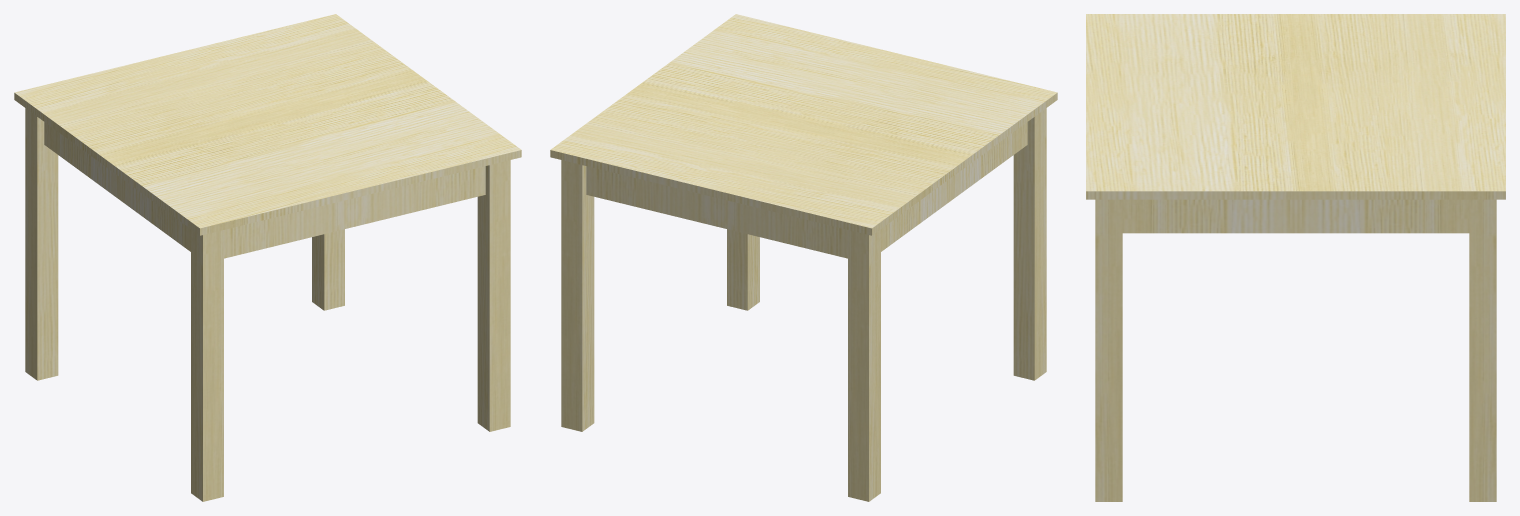
File: ingo_table_4_obj0_object.obj
3 renders of one model, left to right at view 1: azimuth 30°, elevation 25°; view 2: azimuth 150°, elevation 25°; view 3: azimuth 270°, elevation 25°, orthographic. The views are drawn at different scales.
Parts seen in each view (by area): view 1: Mesh2 ingo_table_top_1_1 ingo_side_table1 Model, Mesh3 ingo_table_leg_1_2 ingo_side_table1 Model, Mesh4 ingo_table_leg_1_3 ingo_side_table1 Model, Mesh1 ingo_table_leg_1_1 ingo_side_table1 Model, Mesh5 ingo_table_leg_1_4 ingo_side_table1 Model; view 2: Mesh2 ingo_table_top_1_1 ingo_side_table1 Model, Mesh1 ingo_table_leg_1_1 ingo_side_table1 Model, Mesh5 ingo_table_leg_1_4 ingo_side_table1 Model, Mesh3 ingo_table_leg_1_2 ingo_side_table1 Model, Mesh4 ingo_table_leg_1_3 ingo_side_table1 Model; view 3: Mesh2 ingo_table_top_1_1 ingo_side_table1 Model, Mesh4 ingo_table_leg_1_3 ingo_side_table1 Model, Mesh5 ingo_table_leg_1_4 ingo_side_table1 Model.
Boxes of the visible parts, bbox=[...] form: Mesh2 ingo_table_top_1_1 ingo_side_table1 Model: bbox=[14, 14, 521, 235]; Mesh3 ingo_table_leg_1_2 ingo_side_table1 Model: bbox=[121, 178, 352, 501]; Mesh4 ingo_table_leg_1_3 ingo_side_table1 Model: bbox=[352, 160, 510, 431]; Mesh1 ingo_table_leg_1_1 ingo_side_table1 Model: bbox=[25, 108, 120, 380]; Mesh5 ingo_table_leg_1_4 ingo_side_table1 Model: bbox=[312, 229, 344, 310]; Mesh2 ingo_table_top_1_1 ingo_side_table1 Model: bbox=[550, 14, 1057, 235]; Mesh1 ingo_table_leg_1_1 ingo_side_table1 Model: bbox=[719, 178, 950, 501]; Mesh5 ingo_table_leg_1_4 ingo_side_table1 Model: bbox=[561, 160, 719, 431]; Mesh3 ingo_table_leg_1_2 ingo_side_table1 Model: bbox=[951, 108, 1046, 380]; Mesh4 ingo_table_leg_1_3 ingo_side_table1 Model: bbox=[727, 229, 759, 310]; Mesh2 ingo_table_top_1_1 ingo_side_table1 Model: bbox=[1086, 14, 1505, 199]; Mesh4 ingo_table_leg_1_3 ingo_side_table1 Model: bbox=[1095, 199, 1295, 501]; Mesh5 ingo_table_leg_1_4 ingo_side_table1 Model: bbox=[1296, 199, 1496, 501].
Size of the model in its own units: 23 by 19 by 23.
1 material, 1 textured.
